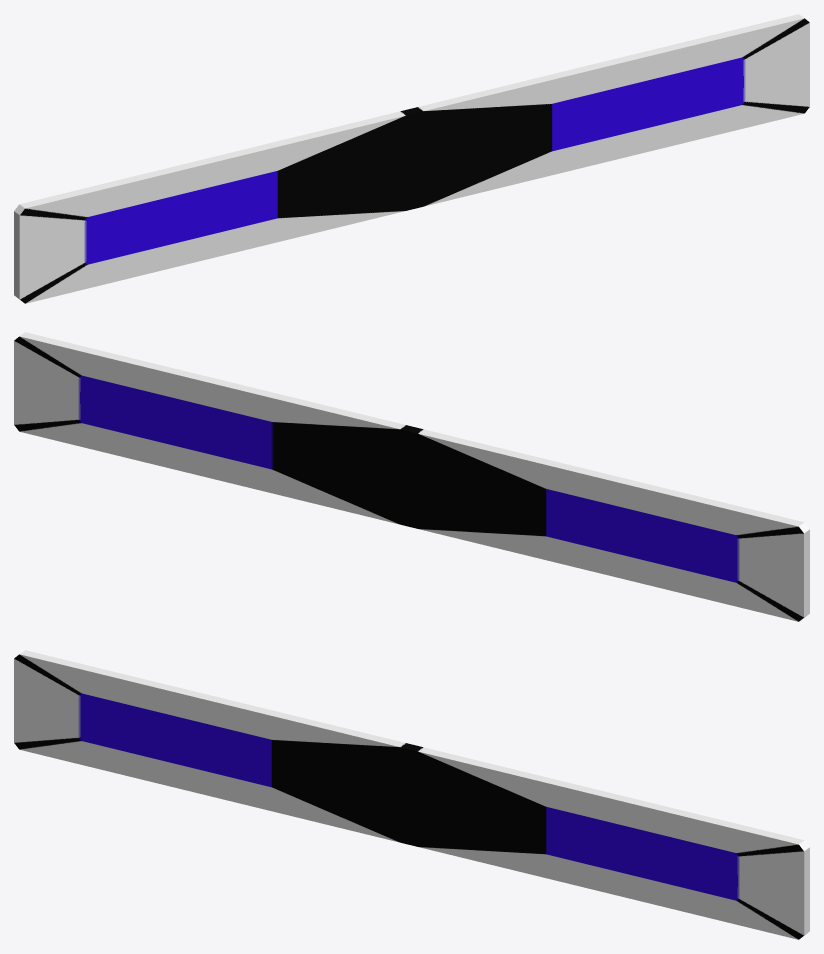
File: HangarDoor.fbx
3 renders of one model, top to bottom at view 1: azimuth 30°, elevation 25°; view 2: azimuth 150°, elevation 25°; view 3: azimuth 330°, elevation 25°, orthographic.
Visible parts, largest first — view 1: Cube.001; view 2: Cube.001; view 3: Cube.001.
Boxes of the visible parts, x1,y1,x2,y2 form: Cube.001: (14, 14, 809, 303); Cube.001: (14, 332, 809, 621); Cube.001: (14, 650, 809, 939).
Bounding box in the file's own units: 7573 × 874 × 97.01.
